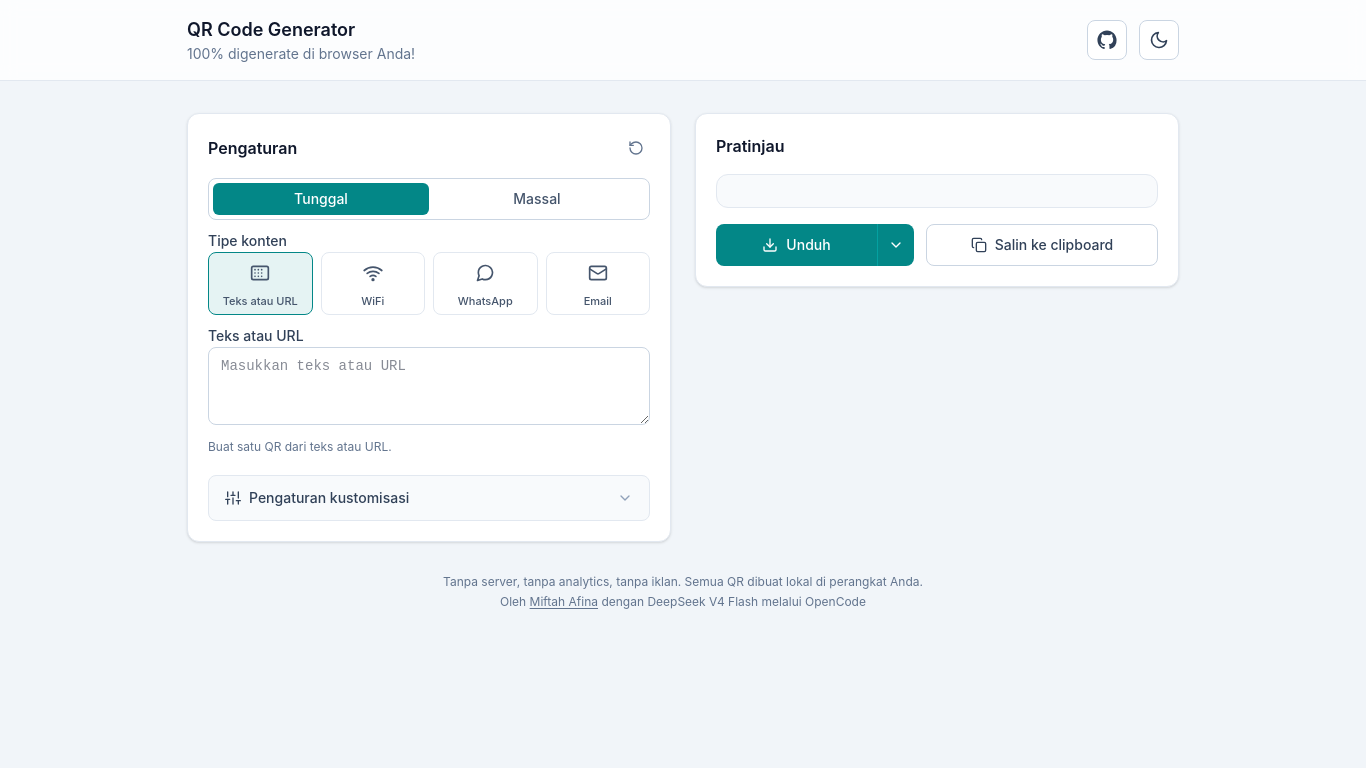
App › menyalin gambar ke clipboard
Click the button "Salin ke clipboard": click(1042, 245) [926,224,1158,266]
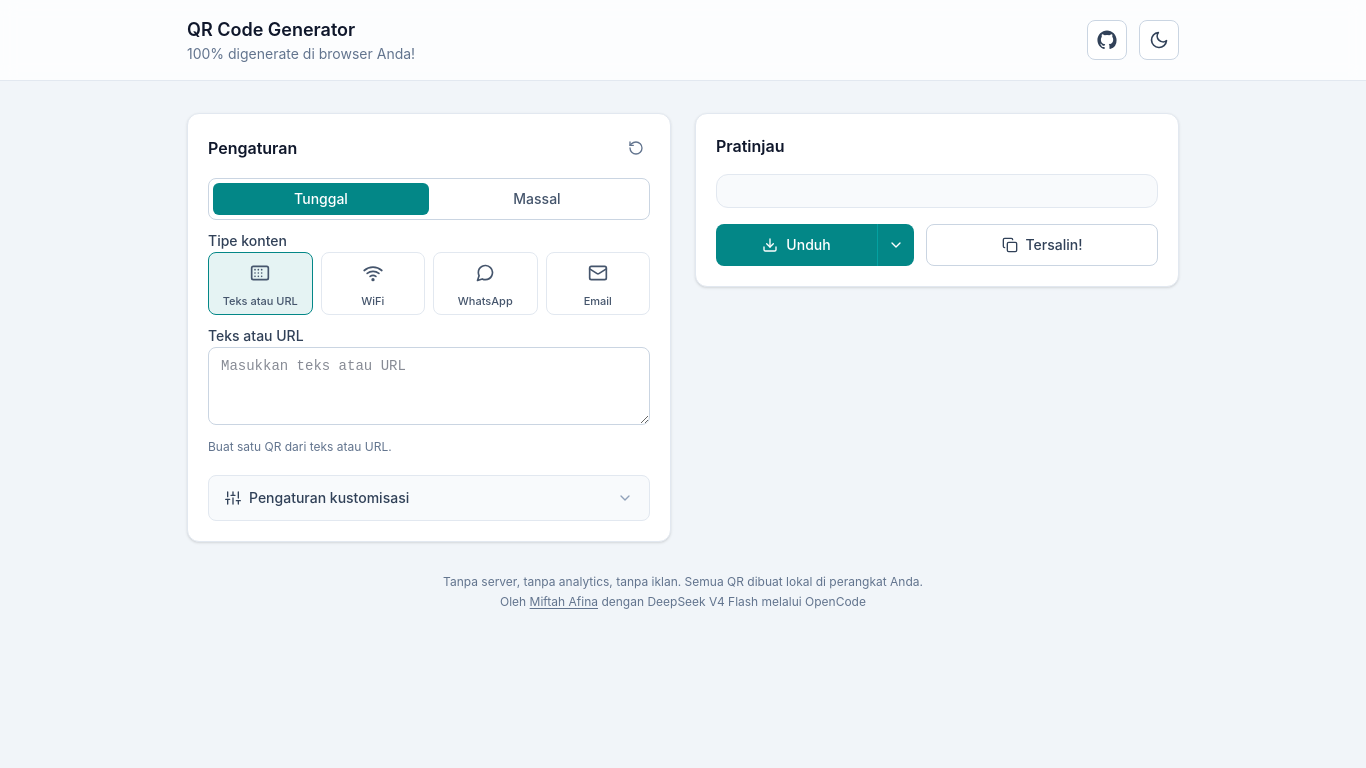
expect the button "Tersalin!" is shown: met, box [926,224,1158,266]
